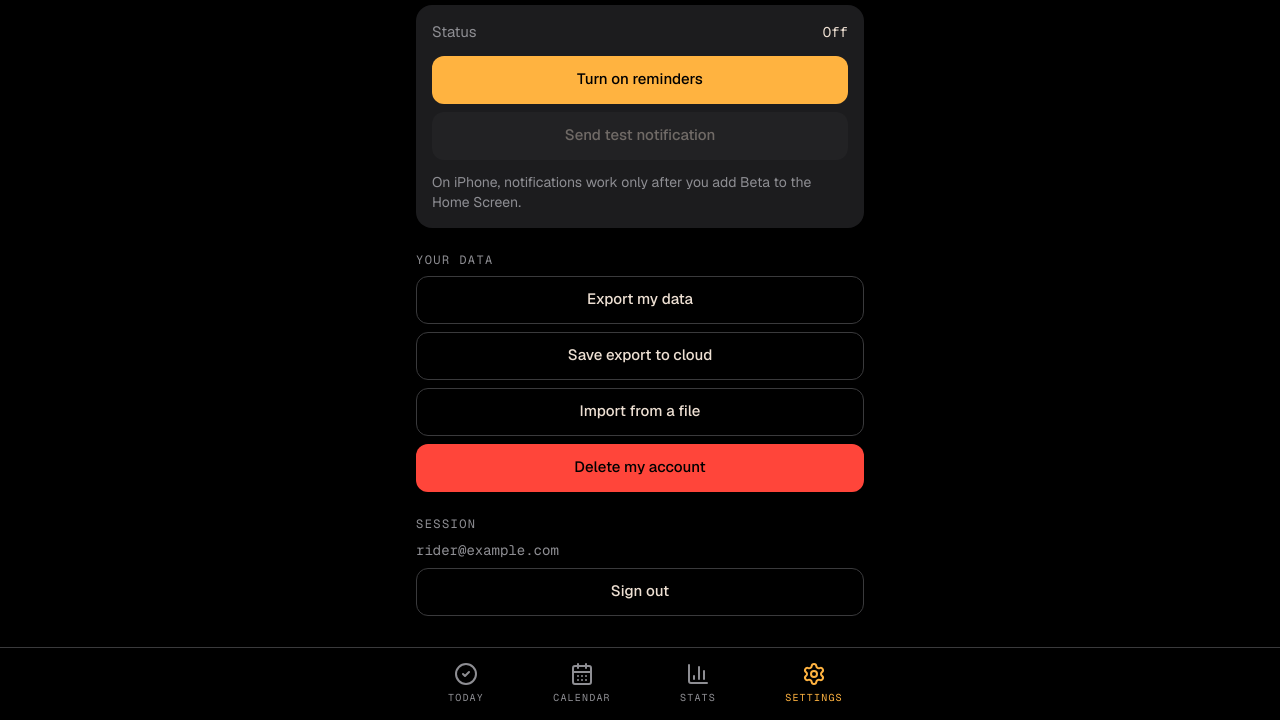
Test: Settings › delete account › keeps the dialog open and explains a wrong password
(page scrolled)
Click the 6th button named "Delete my account" at (640, 468), box [416,444,864,492]
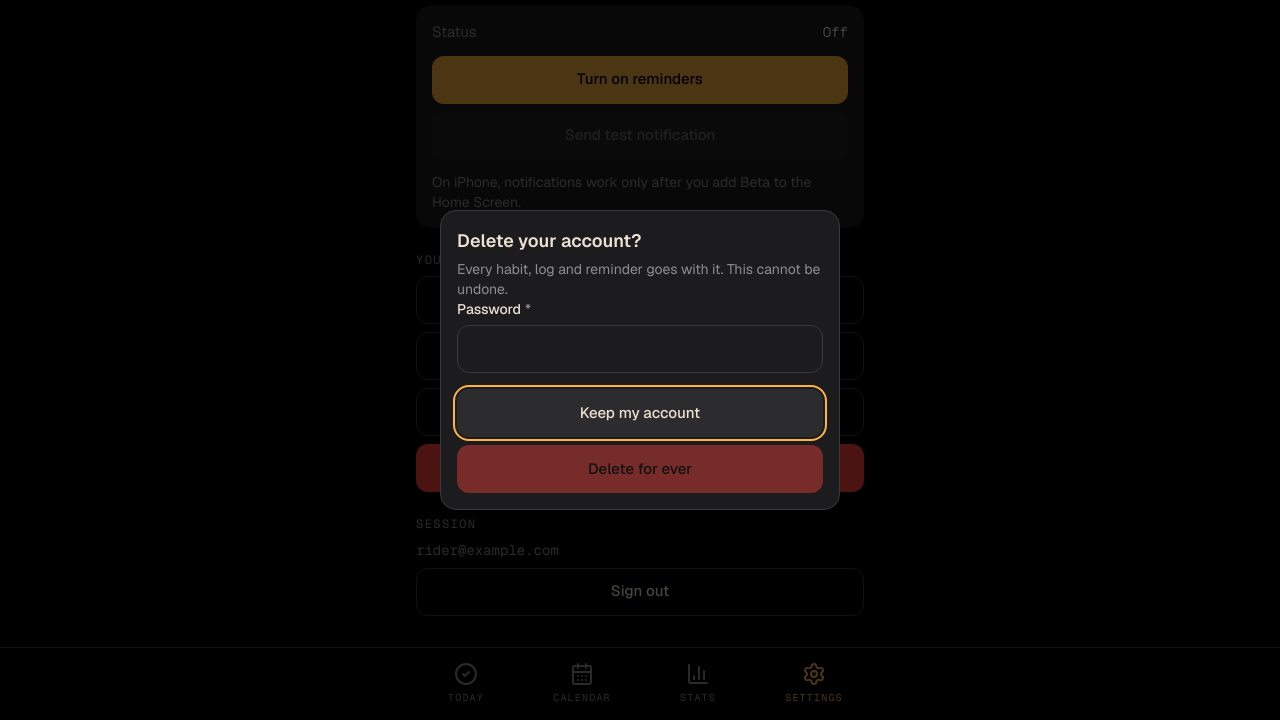
Type "wrong-password" into the password field labelled "Password*" at (640, 349), box [457,325,823,373]
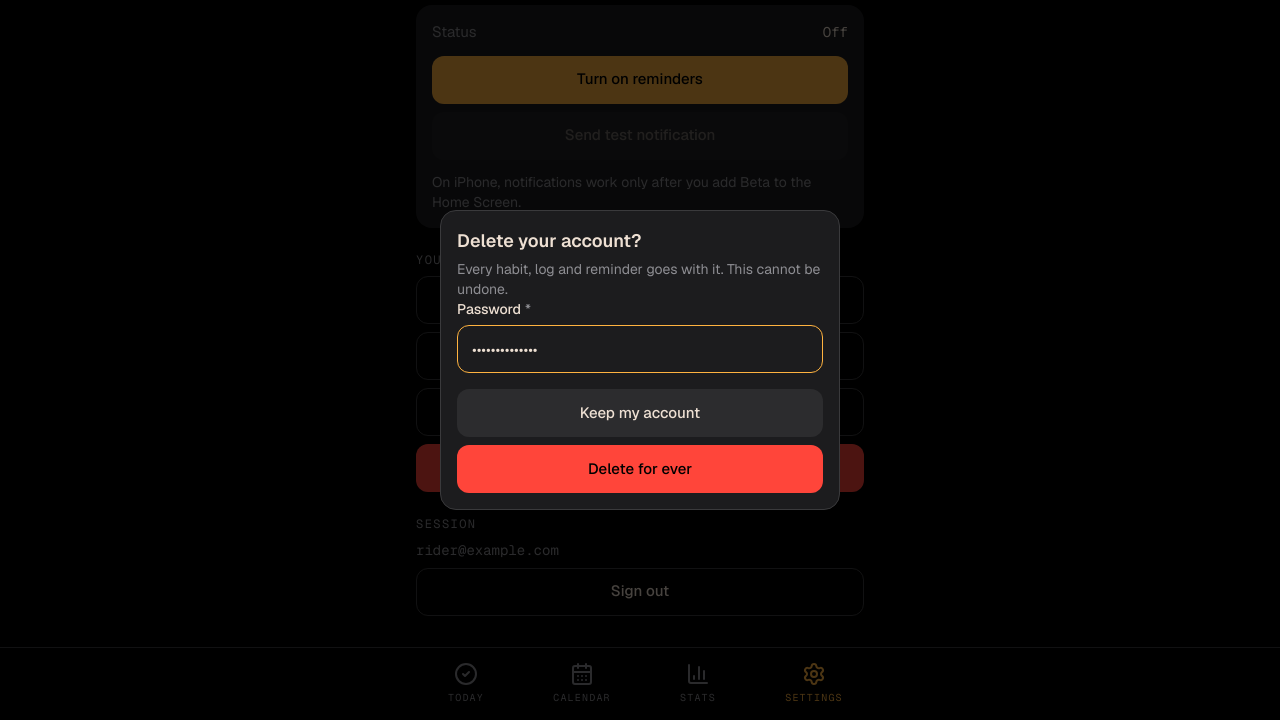
Click the button "Delete for ever" at (640, 469), box [457,445,823,493]
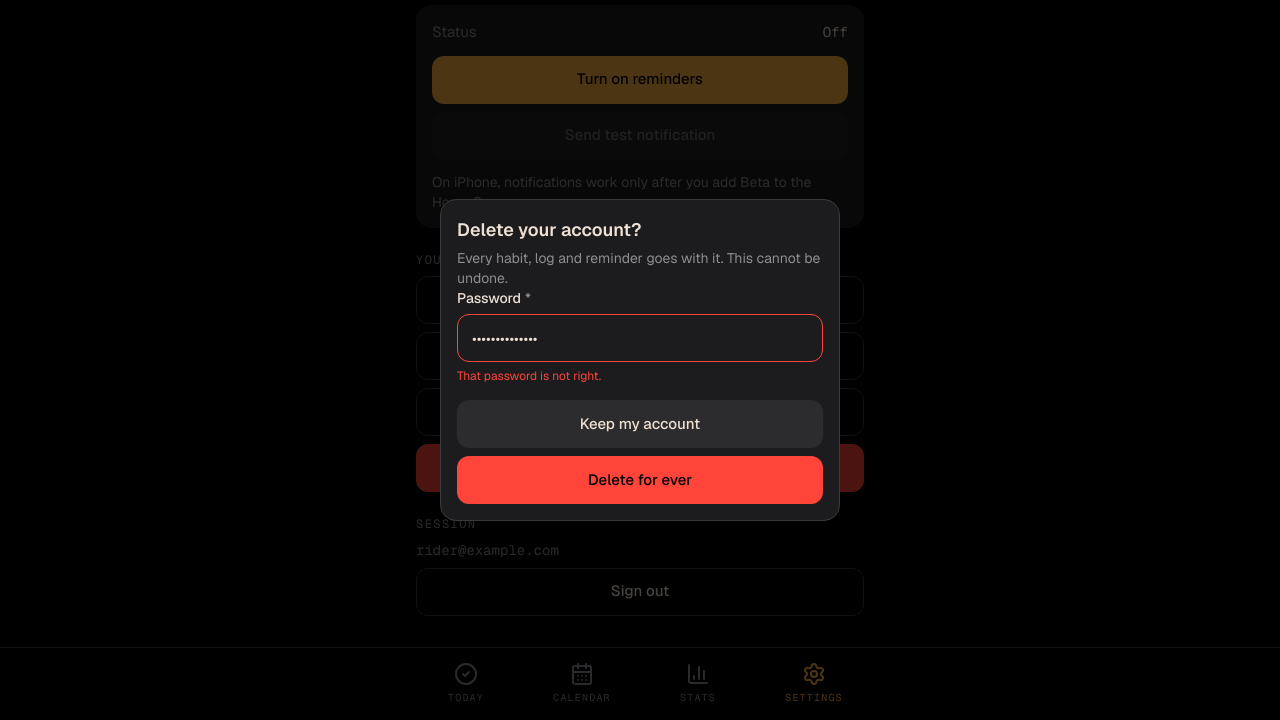
Expected: the dialog is shown, [440,199,840,521]
Expected: the text "That password is not right." is shown, [457,368,601,384]
